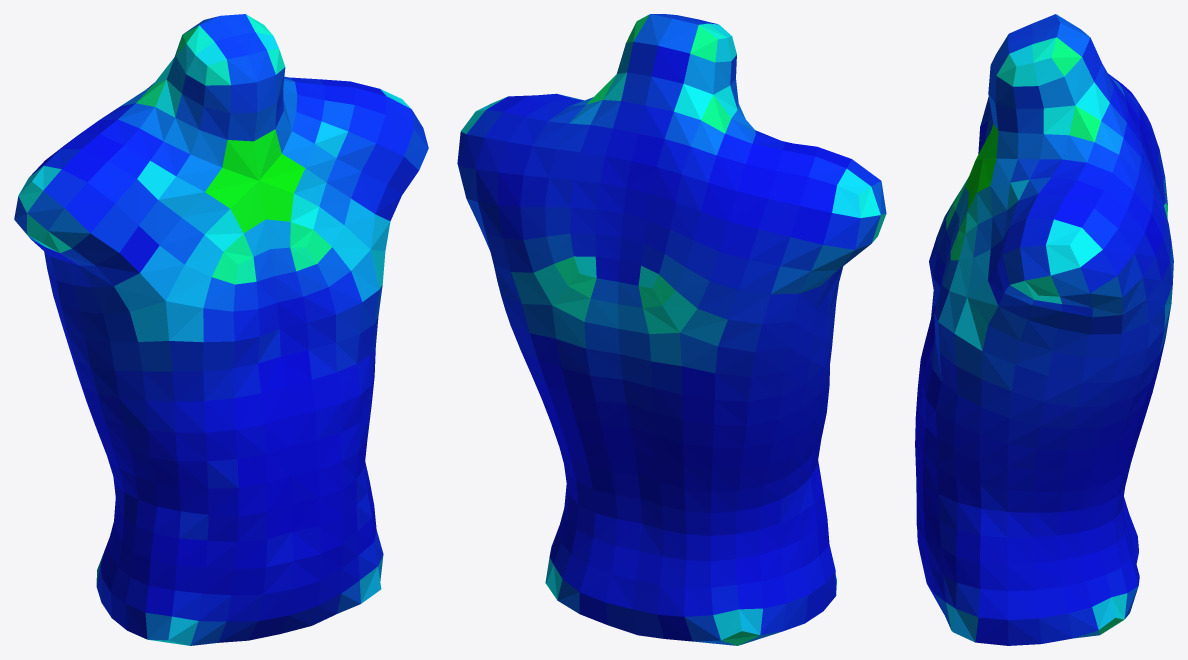
Rendered from mannequin_opt_quality.obj.
3 renders of one model, left to right at view 1: azimuth 30°, elevation 25°; view 2: azimuth 150°, elevation 25°; view 3: azimuth 270°, elevation 25°, orthographic. The views are drawn at different scales.
Bounding box in the file's own units: 5.43 × 7.55 × 3.09.
